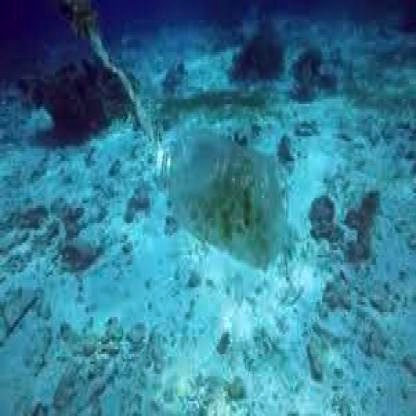pbottle: (150, 124, 292, 270)
